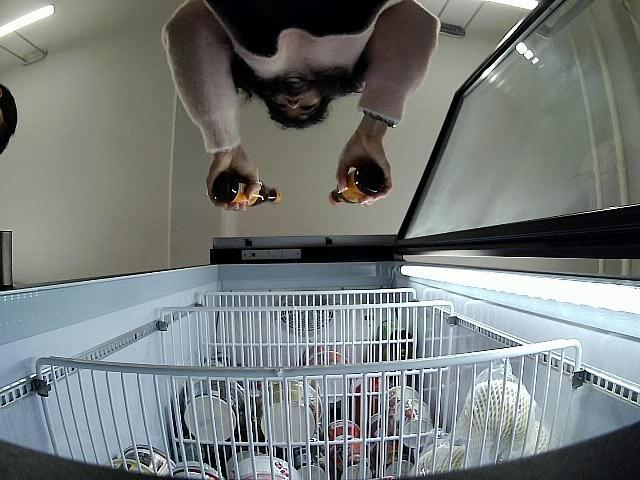17_vita500: (328, 161, 390, 206), (208, 172, 280, 207)
